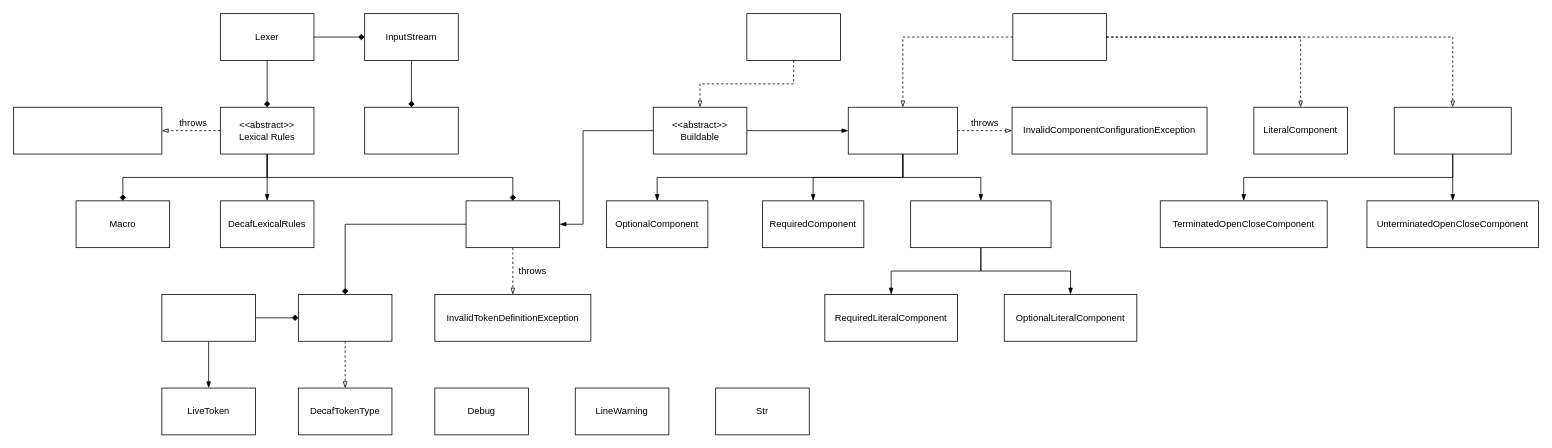
Some shapes in this 1552 by 448 pixel diagram are drawn without their labels. Each missing label, with the box of its shape:
<<abstract>> OpenCloseComponent: (1393, 106, 1511, 154)
<<interface>> Component: (1012, 13, 1106, 60)
<<interface>> Consumable: (746, 13, 840, 60)
<<interface>> TokenType: (298, 294, 392, 341)
BuildableComponent: (847, 106, 957, 154)
InputStreamState: (364, 106, 458, 154)
SpecifiedLiteralComponent: (910, 200, 1051, 248)
StreamTokenizationException: (13, 106, 162, 154)
Token: (161, 294, 255, 341)
TokenDefinition: (465, 200, 560, 248)
